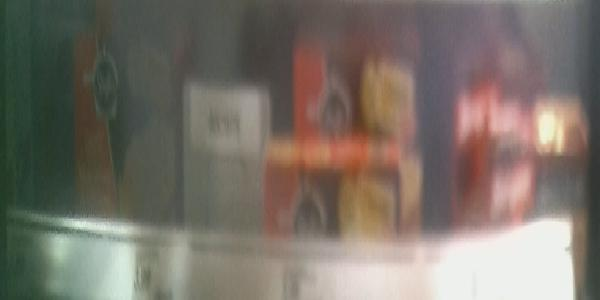pizza1: (261, 12, 421, 241), (459, 5, 587, 230), (35, 16, 171, 224)
